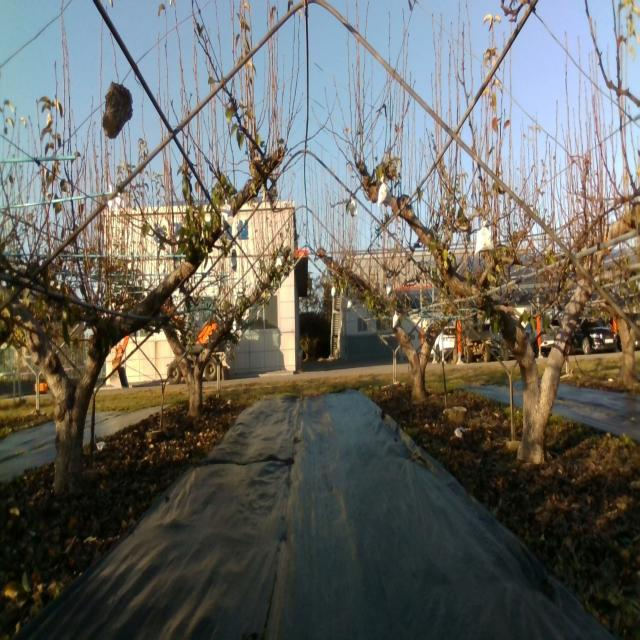pearbags: (474, 218, 496, 256), (220, 200, 234, 232), (378, 178, 392, 207)
